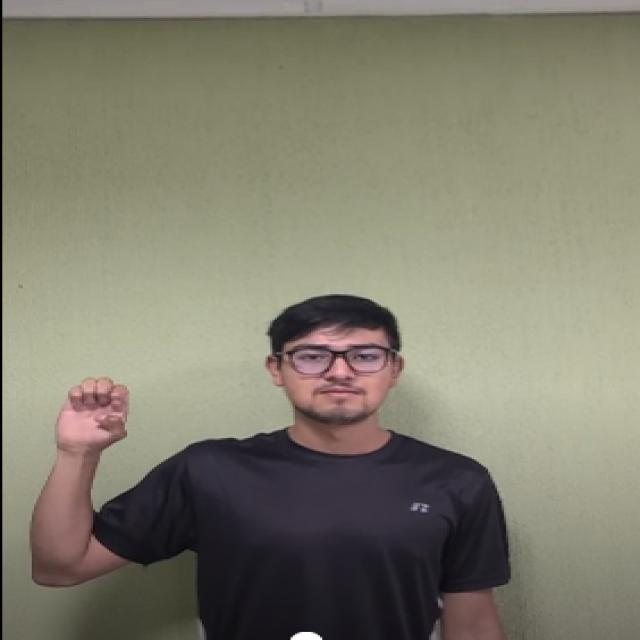E: (40, 366, 142, 464)
